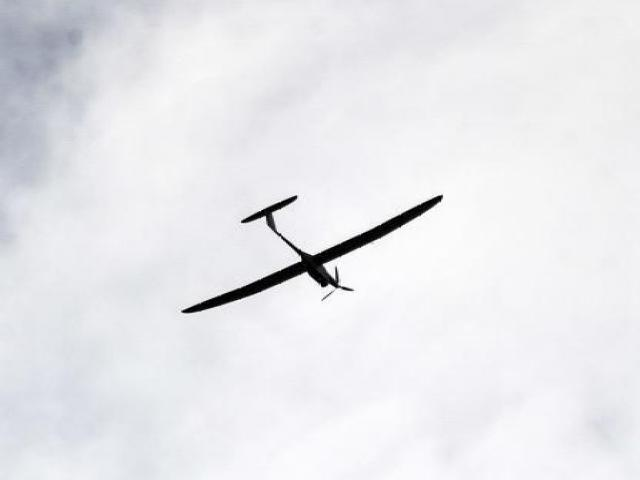uav: (170, 180, 444, 323)
